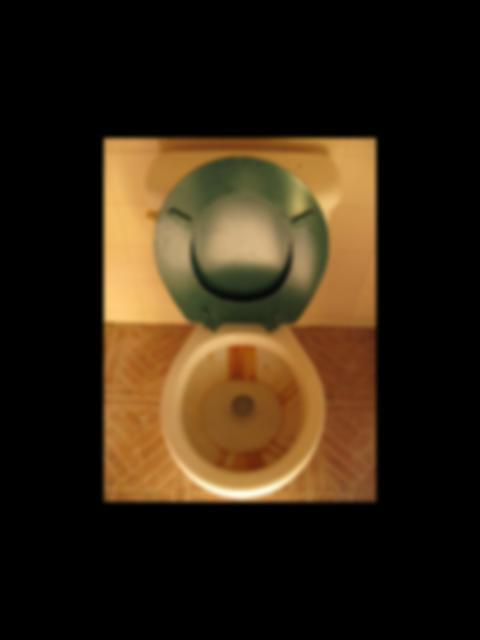Sanitario: (147, 152, 342, 498)
